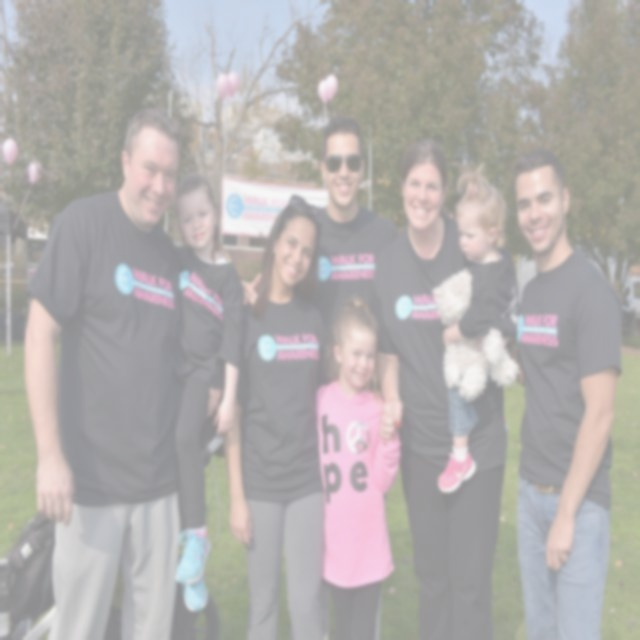pessoa: (20, 105, 226, 640), (362, 136, 524, 640), (503, 146, 622, 640), (222, 201, 332, 639), (238, 113, 403, 360), (172, 170, 247, 617), (314, 293, 402, 639), (436, 170, 520, 494), (622, 286, 636, 340)
